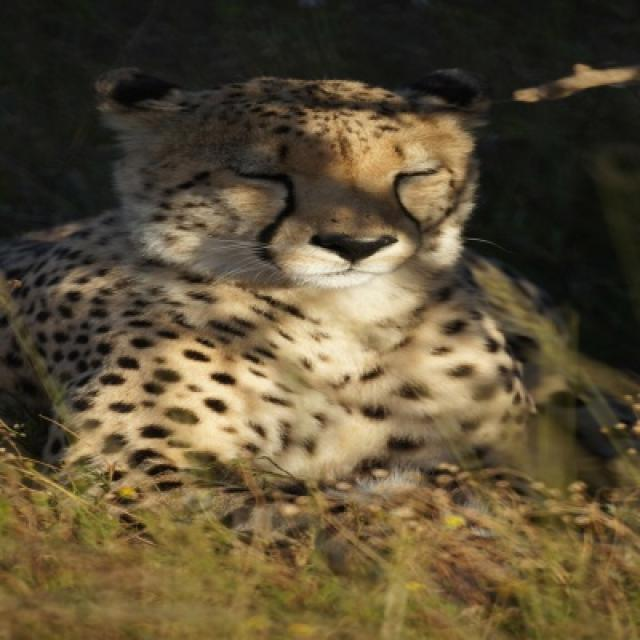Cheetah: (0, 70, 638, 506)
